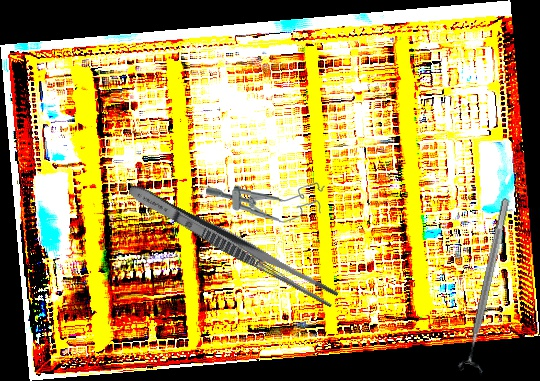Dressing Forceps: (124, 179, 341, 310)
Fixation Ring: (455, 195, 520, 377)
Speculum: (205, 177, 325, 225)
